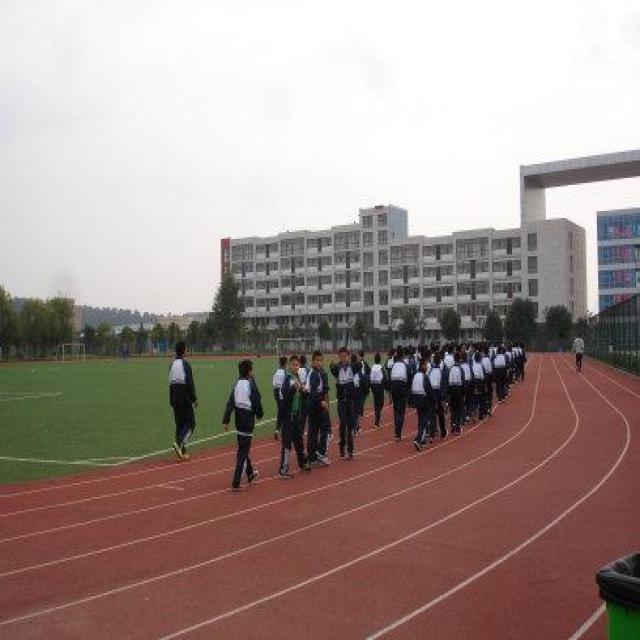non-fight: (219, 359, 264, 490), (272, 356, 304, 478), (334, 351, 367, 462), (303, 352, 334, 468), (168, 356, 200, 458), (410, 352, 441, 448), (384, 351, 410, 441), (438, 347, 463, 438)
